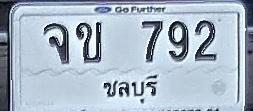2: (194, 19, 216, 60)
7: (141, 19, 163, 62)
9: (168, 19, 188, 60)
A02: (76, 20, 101, 62)
A08: (43, 22, 69, 63)
CBI: (98, 69, 163, 104)
